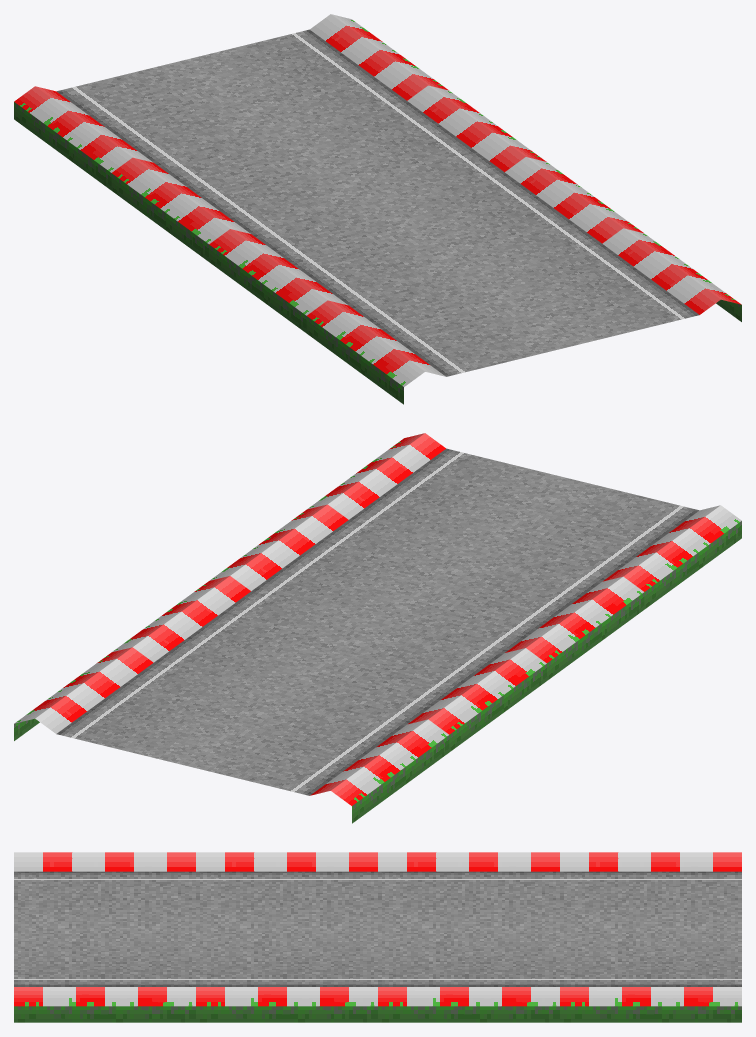
The model's file is RaceStraight.glb.
The picture shows the model from 3 angles, top to bottom: view 1: azimuth 30°, elevation 25°; view 2: azimuth 150°, elevation 25°; view 3: azimuth 270°, elevation 25°; orthographic projection. The views are drawn at different scales.
Visible parts, largest first — view 1: RaceStraight; view 2: RaceStraight; view 3: RaceStraight.
Part boxes in pixels (x1=…): RaceStraight: x1=14, y1=14, x2=741, y2=404; RaceStraight: x1=14, y1=433, x2=741, y2=823; RaceStraight: x1=14, y1=852, x2=741, y2=1022.
Bounding box in the file's own units: 0.5 × 0.0396 × 1.
1 material, 1 textured.
